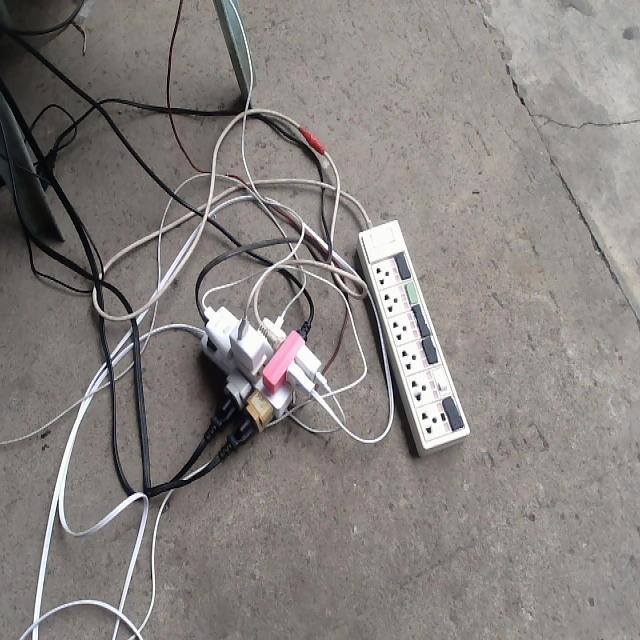-: (194, 293, 326, 459)
